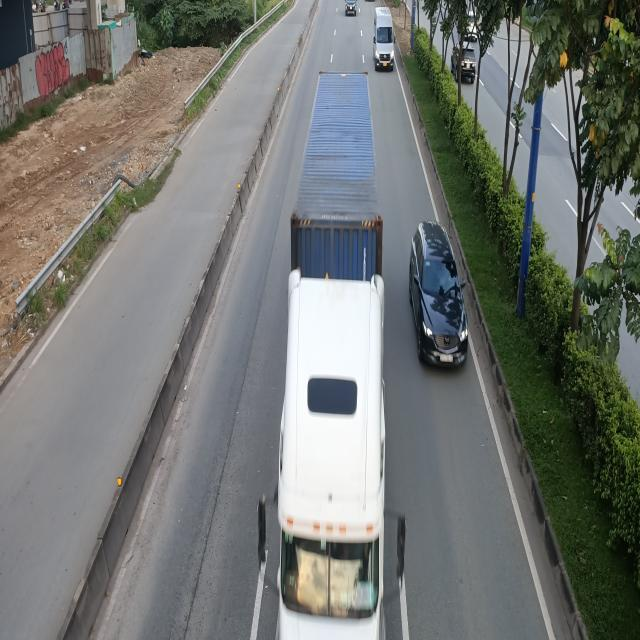car: (410, 220, 469, 370)
container: (264, 69, 387, 632)
van: (373, 6, 396, 70)
